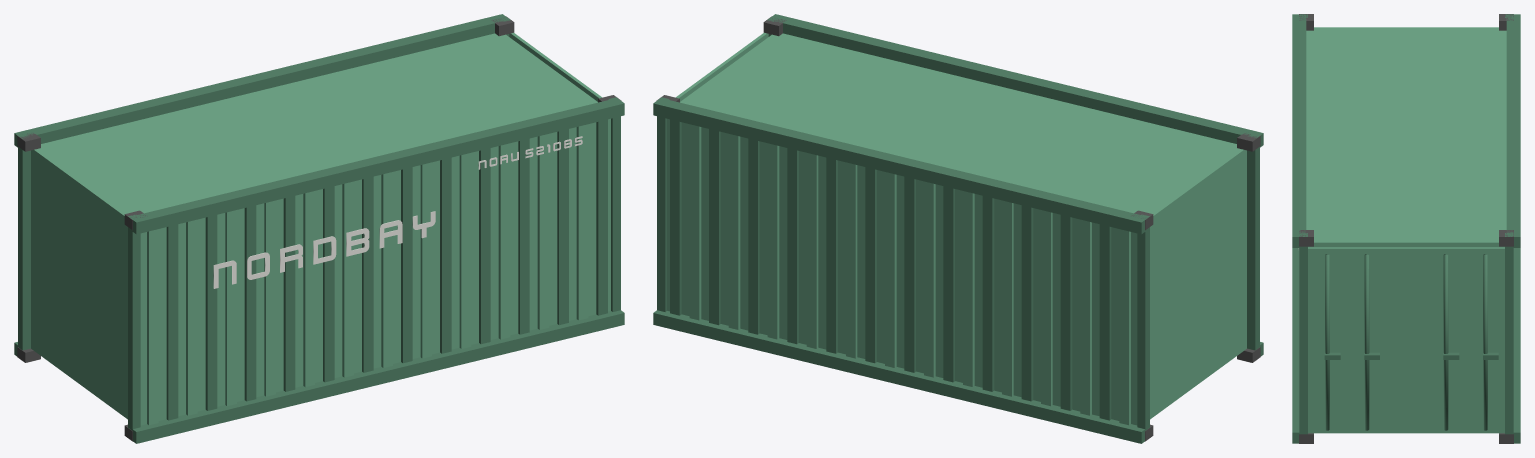
Rendered from container_2.glb.
3 renders of one model, left to right at view 1: azimuth 30°, elevation 25°; view 2: azimuth 150°, elevation 25°; view 3: azimuth 270°, elevation 25°, orthographic. The views are drawn at different scales.
Parts seen in each view (by area): view 1: container_2; view 2: container_2; view 3: container_2.
Boxes of the visible parts, bbox=[...] form: container_2: bbox=[14, 14, 624, 443]; container_2: bbox=[653, 14, 1263, 443]; container_2: bbox=[1292, 14, 1520, 443].
Bounding box in the file's own units: 6.11 × 2.6 × 2.6.
